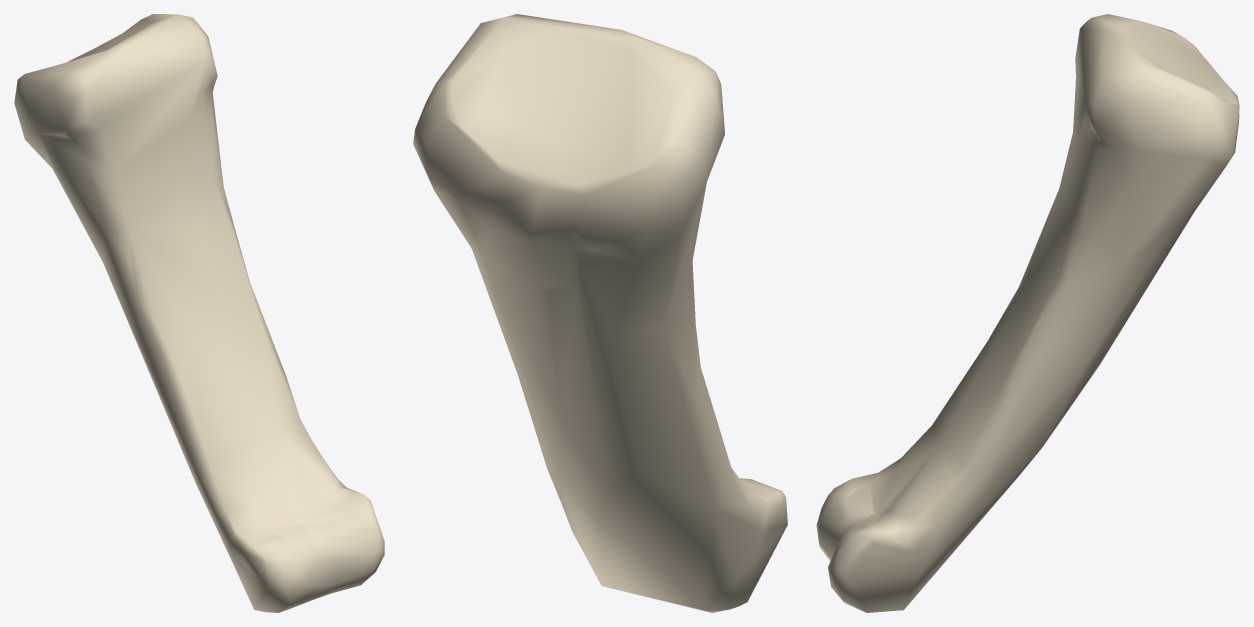
Rendered from proximal-phalanx-of-third-finger-of-hand-l.glb.
3 views of the same model, side by side, from view 1: azimuth 30°, elevation 25°; view 2: azimuth 150°, elevation 25°; view 3: azimuth 270°, elevation 25° (orthographic). The views are drawn at different scales.
Visible parts, largest first — view 1: Proximal phalanx of third finger of hand.l; view 2: Proximal phalanx of third finger of hand.l; view 3: Proximal phalanx of third finger of hand.l.
Boxes of the visible parts, x1,y1,x2,y2 form: Proximal phalanx of third finger of hand.l: [14, 14, 384, 612]; Proximal phalanx of third finger of hand.l: [413, 14, 787, 612]; Proximal phalanx of third finger of hand.l: [816, 14, 1239, 612].
Bounding box in the file's own units: 0.019 × 0.0421 × 0.0302.
